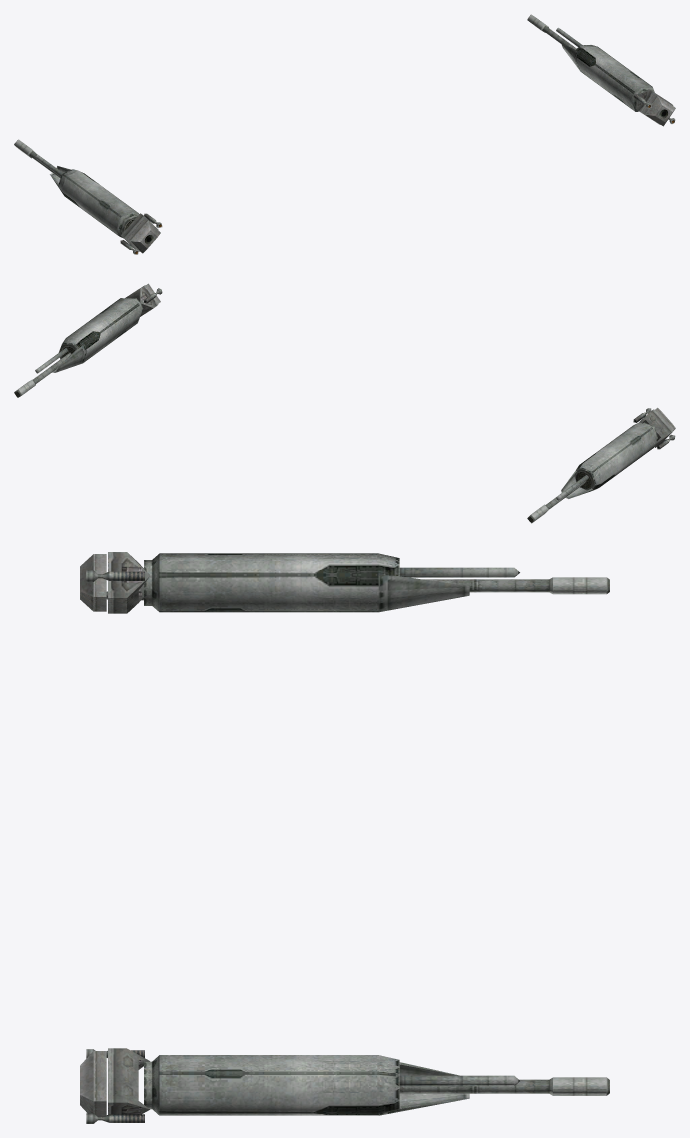
Rendered from hutt_fighter_medium_weapon1_s03_l1.fbx.
3 views of the same model, one above another, from view 1: azimuth 30°, elevation 25°; view 2: azimuth 150°, elevation 25°; view 3: azimuth 270°, elevation 25° (orthographic). The views are drawn at different scales.
Parts seen in each view (by area): view 1: mesh_node; view 2: mesh_node; view 3: mesh_node.
Boxes of the visible parts, x1,y1,x2,y2 form: mesh_node: (14,14,675,254); mesh_node: (14,283,675,523); mesh_node: (80,552,609,1123).
Bounding box in the file's own units: 13.7 × 0.8107 × 5.74.
Materials: 1 (1 with a texture image).
